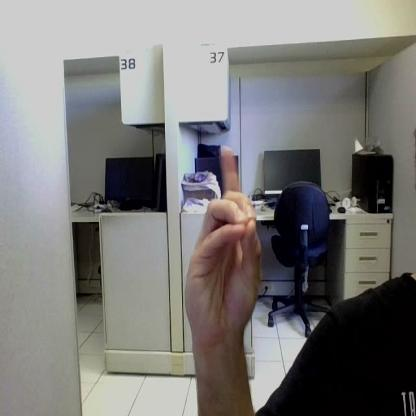D: (186, 147, 260, 329)
